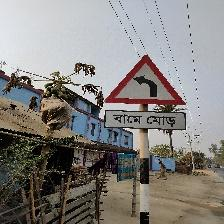Left-Turn: (102, 55, 187, 131)
